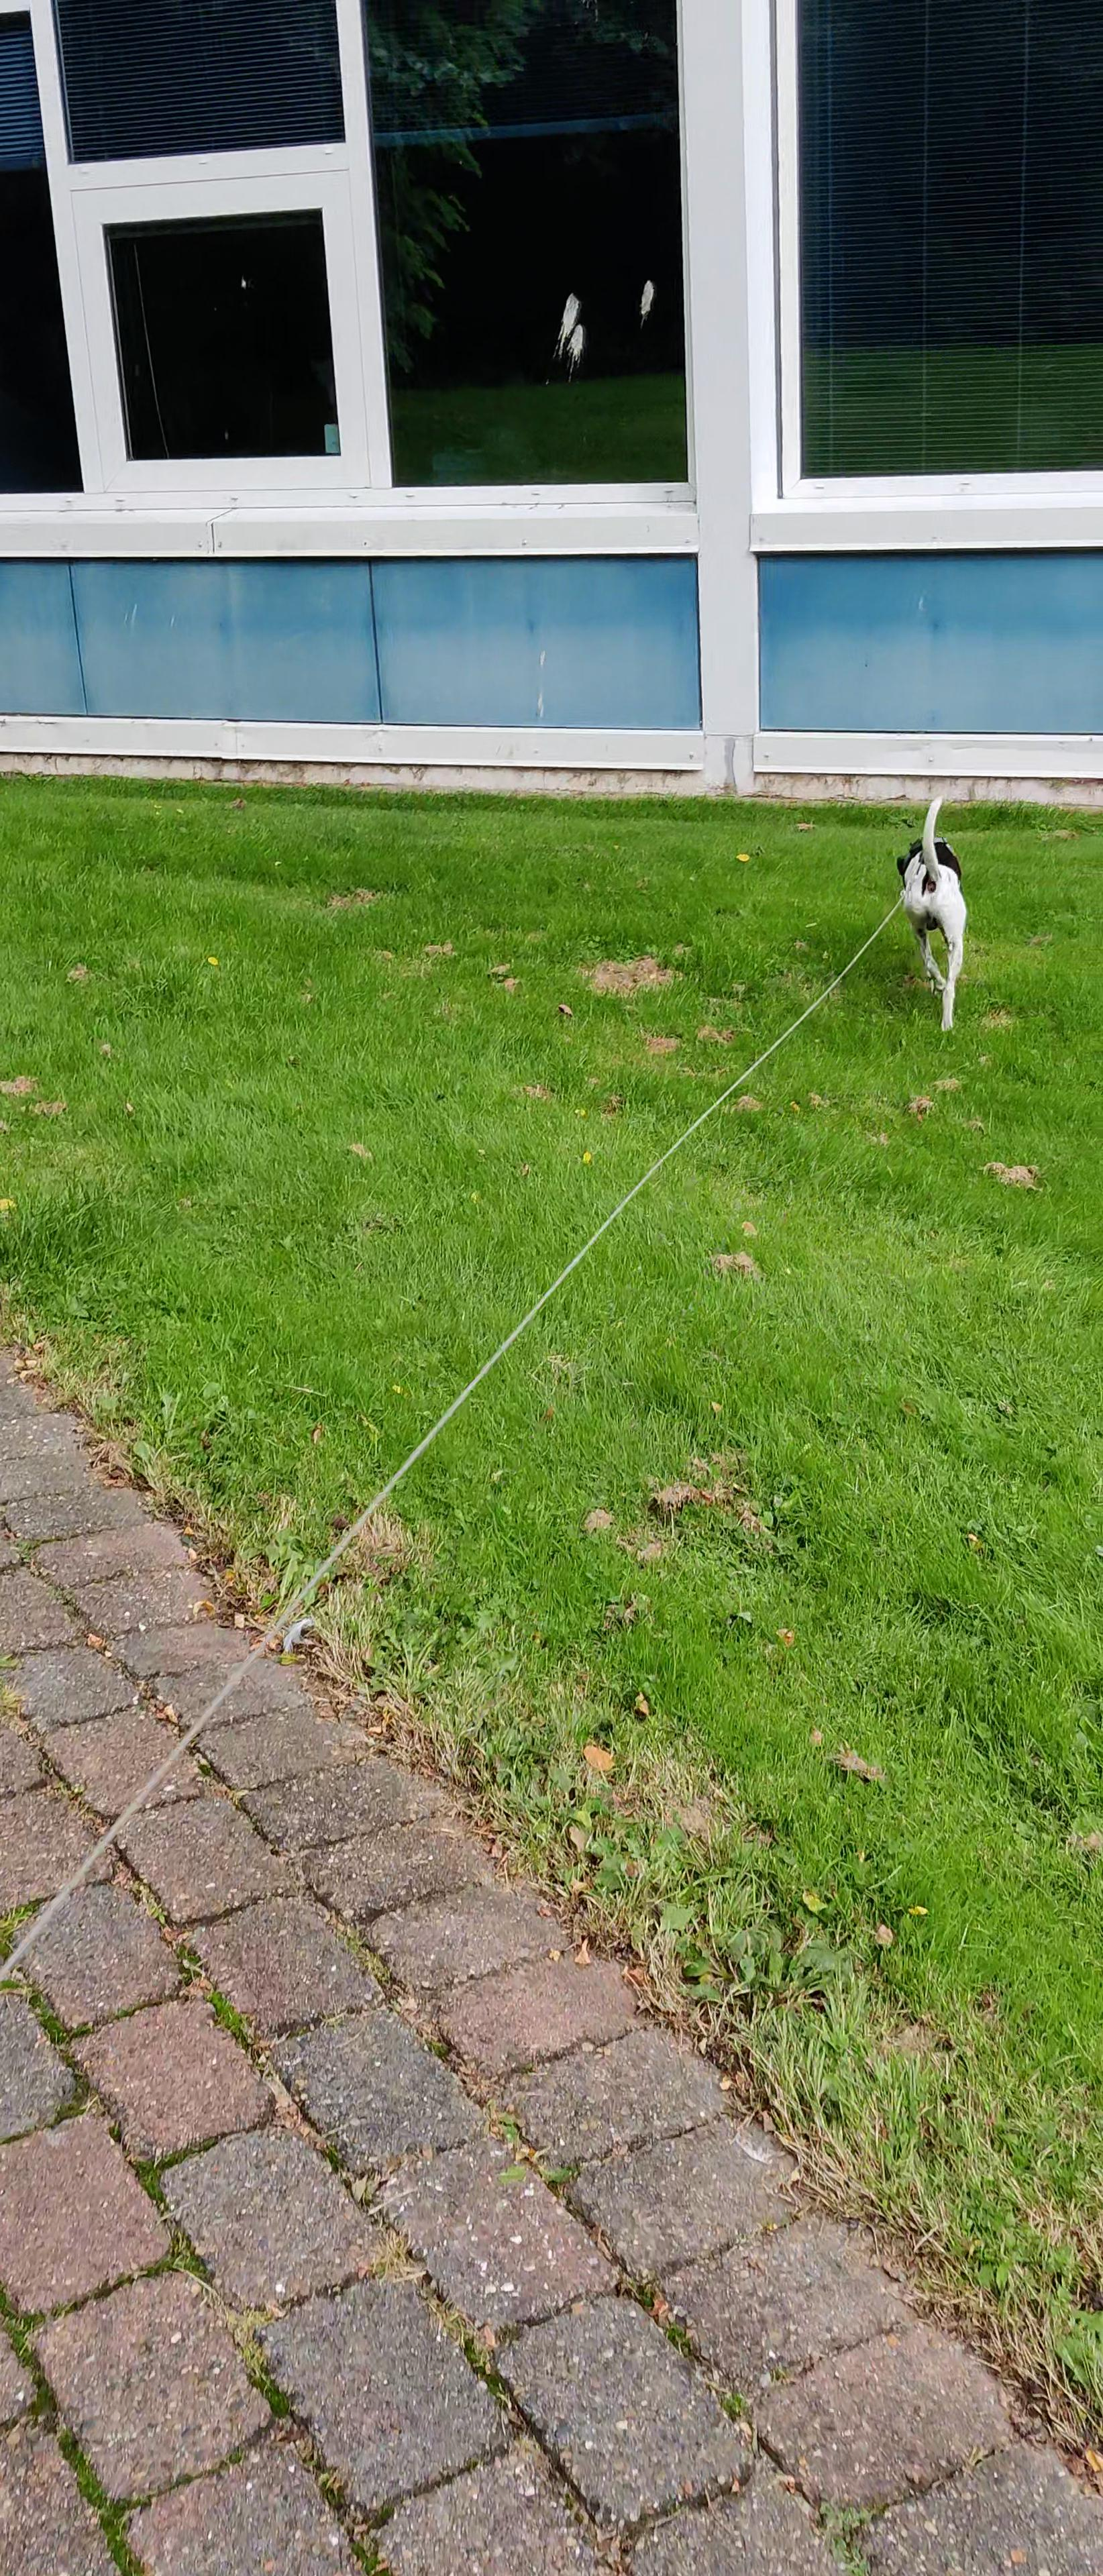Dog: (883, 777, 985, 1043)
